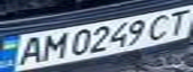0: (66, 27, 93, 56)
2: (87, 24, 115, 54)
4: (109, 20, 133, 50)
9: (124, 17, 154, 46)
A: (9, 34, 48, 66)
C: (142, 11, 178, 40)
M: (36, 30, 72, 62)
T: (160, 7, 193, 36)
